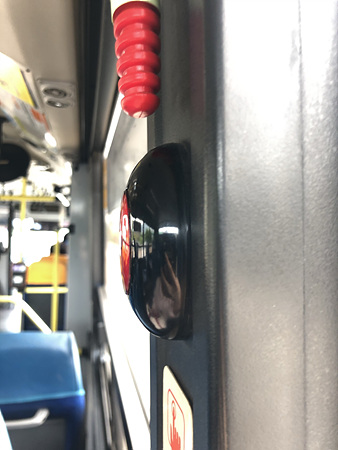bell: (119, 141, 195, 342)
